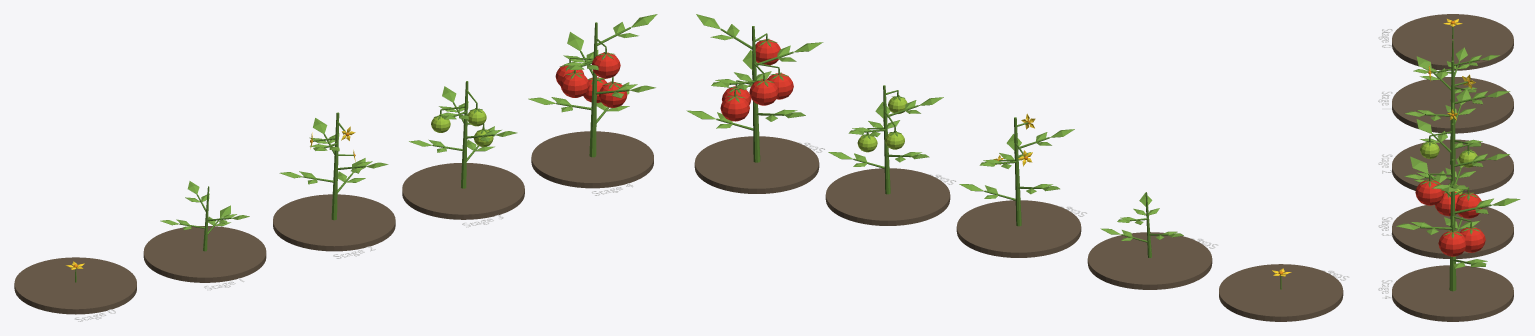
Rendered from HP3_Tomato_5Stages_Blender33.fbx.
3 renders of one model, left to right at view 1: azimuth 30°, elevation 25°; view 2: azimuth 150°, elevation 25°; view 3: azimuth 270°, elevation 25°, orthographic.
Parts seen in each view (by area): view 1: Preview_Soil, Preview_Soil.002, Preview_Soil.003, Preview_Soil.001, Preview_Soil.004, Stem.027, Ripe_Tomato, Leaf.088, Leaf.080, Stem.006, Stem.015; view 2: Preview_Soil, Preview_Soil.003, Preview_Soil.002, Preview_Soil.004, Preview_Soil.001, Ripe_Tomato.004, Leaf.085, Stem.027, Leaf.088, Stem.006, Stem.015; view 3: Preview_Soil.004, Preview_Soil, Preview_Soil.001, Preview_Soil.003, Preview_Soil.002, Leaf.080, Leaf.088, Stem.027, Leaf.085, Ripe_Tomato.004, Stem.006, Ripe_Tomato (+13 smaller).
Boxes of the visible parts, x1,y1,x2,y2 form: Preview_Soil: (14,257,136,314); Preview_Soil.002: (273,194,395,251); Preview_Soil.003: (402,163,524,219); Preview_Soil.001: (143,226,266,282); Preview_Soil.004: (531,131,653,188); Stem.027: (589,22,597,157); Ripe_Tomato: (560,71,589,97); Leaf.088: (591,52,620,78); Leaf.080: (599,81,627,107); Stem.006: (331,112,339,220); Stem.015: (461,81,468,188); Preview_Soil: (1219,264,1343,321); Preview_Soil.003: (825,168,950,225); Preview_Soil.002: (956,200,1081,257); Preview_Soil.004: (694,136,819,193); Preview_Soil.001: (1087,232,1212,289); Ripe_Tomato.004: (720,94,749,121); Leaf.085: (749,78,778,105); Stem.027: (752,26,760,162); Leaf.088: (755,38,780,65); Stem.006: (1014,117,1021,226); Stem.015: (883,85,890,194); Preview_Soil.004: (1392,265,1513,321); Preview_Soil: (1392,14,1513,70); Preview_Soil.001: (1392,77,1513,133); Preview_Soil.003: (1392,205,1513,258); Preview_Soil.002: (1392,139,1513,194); Leaf.080: (1438,230,1466,256); Leaf.088: (1415,179,1444,205); Stem.027: (1449,159,1456,291); Leaf.085: (1456,192,1482,218); Ripe_Tomato.004: (1460,227,1485,252); Stem.006: (1450,60,1455,164); Ripe_Tomato: (1435,191,1459,216).
Bounding box in the file's own units: 441 × 92.27 × 86.21.
